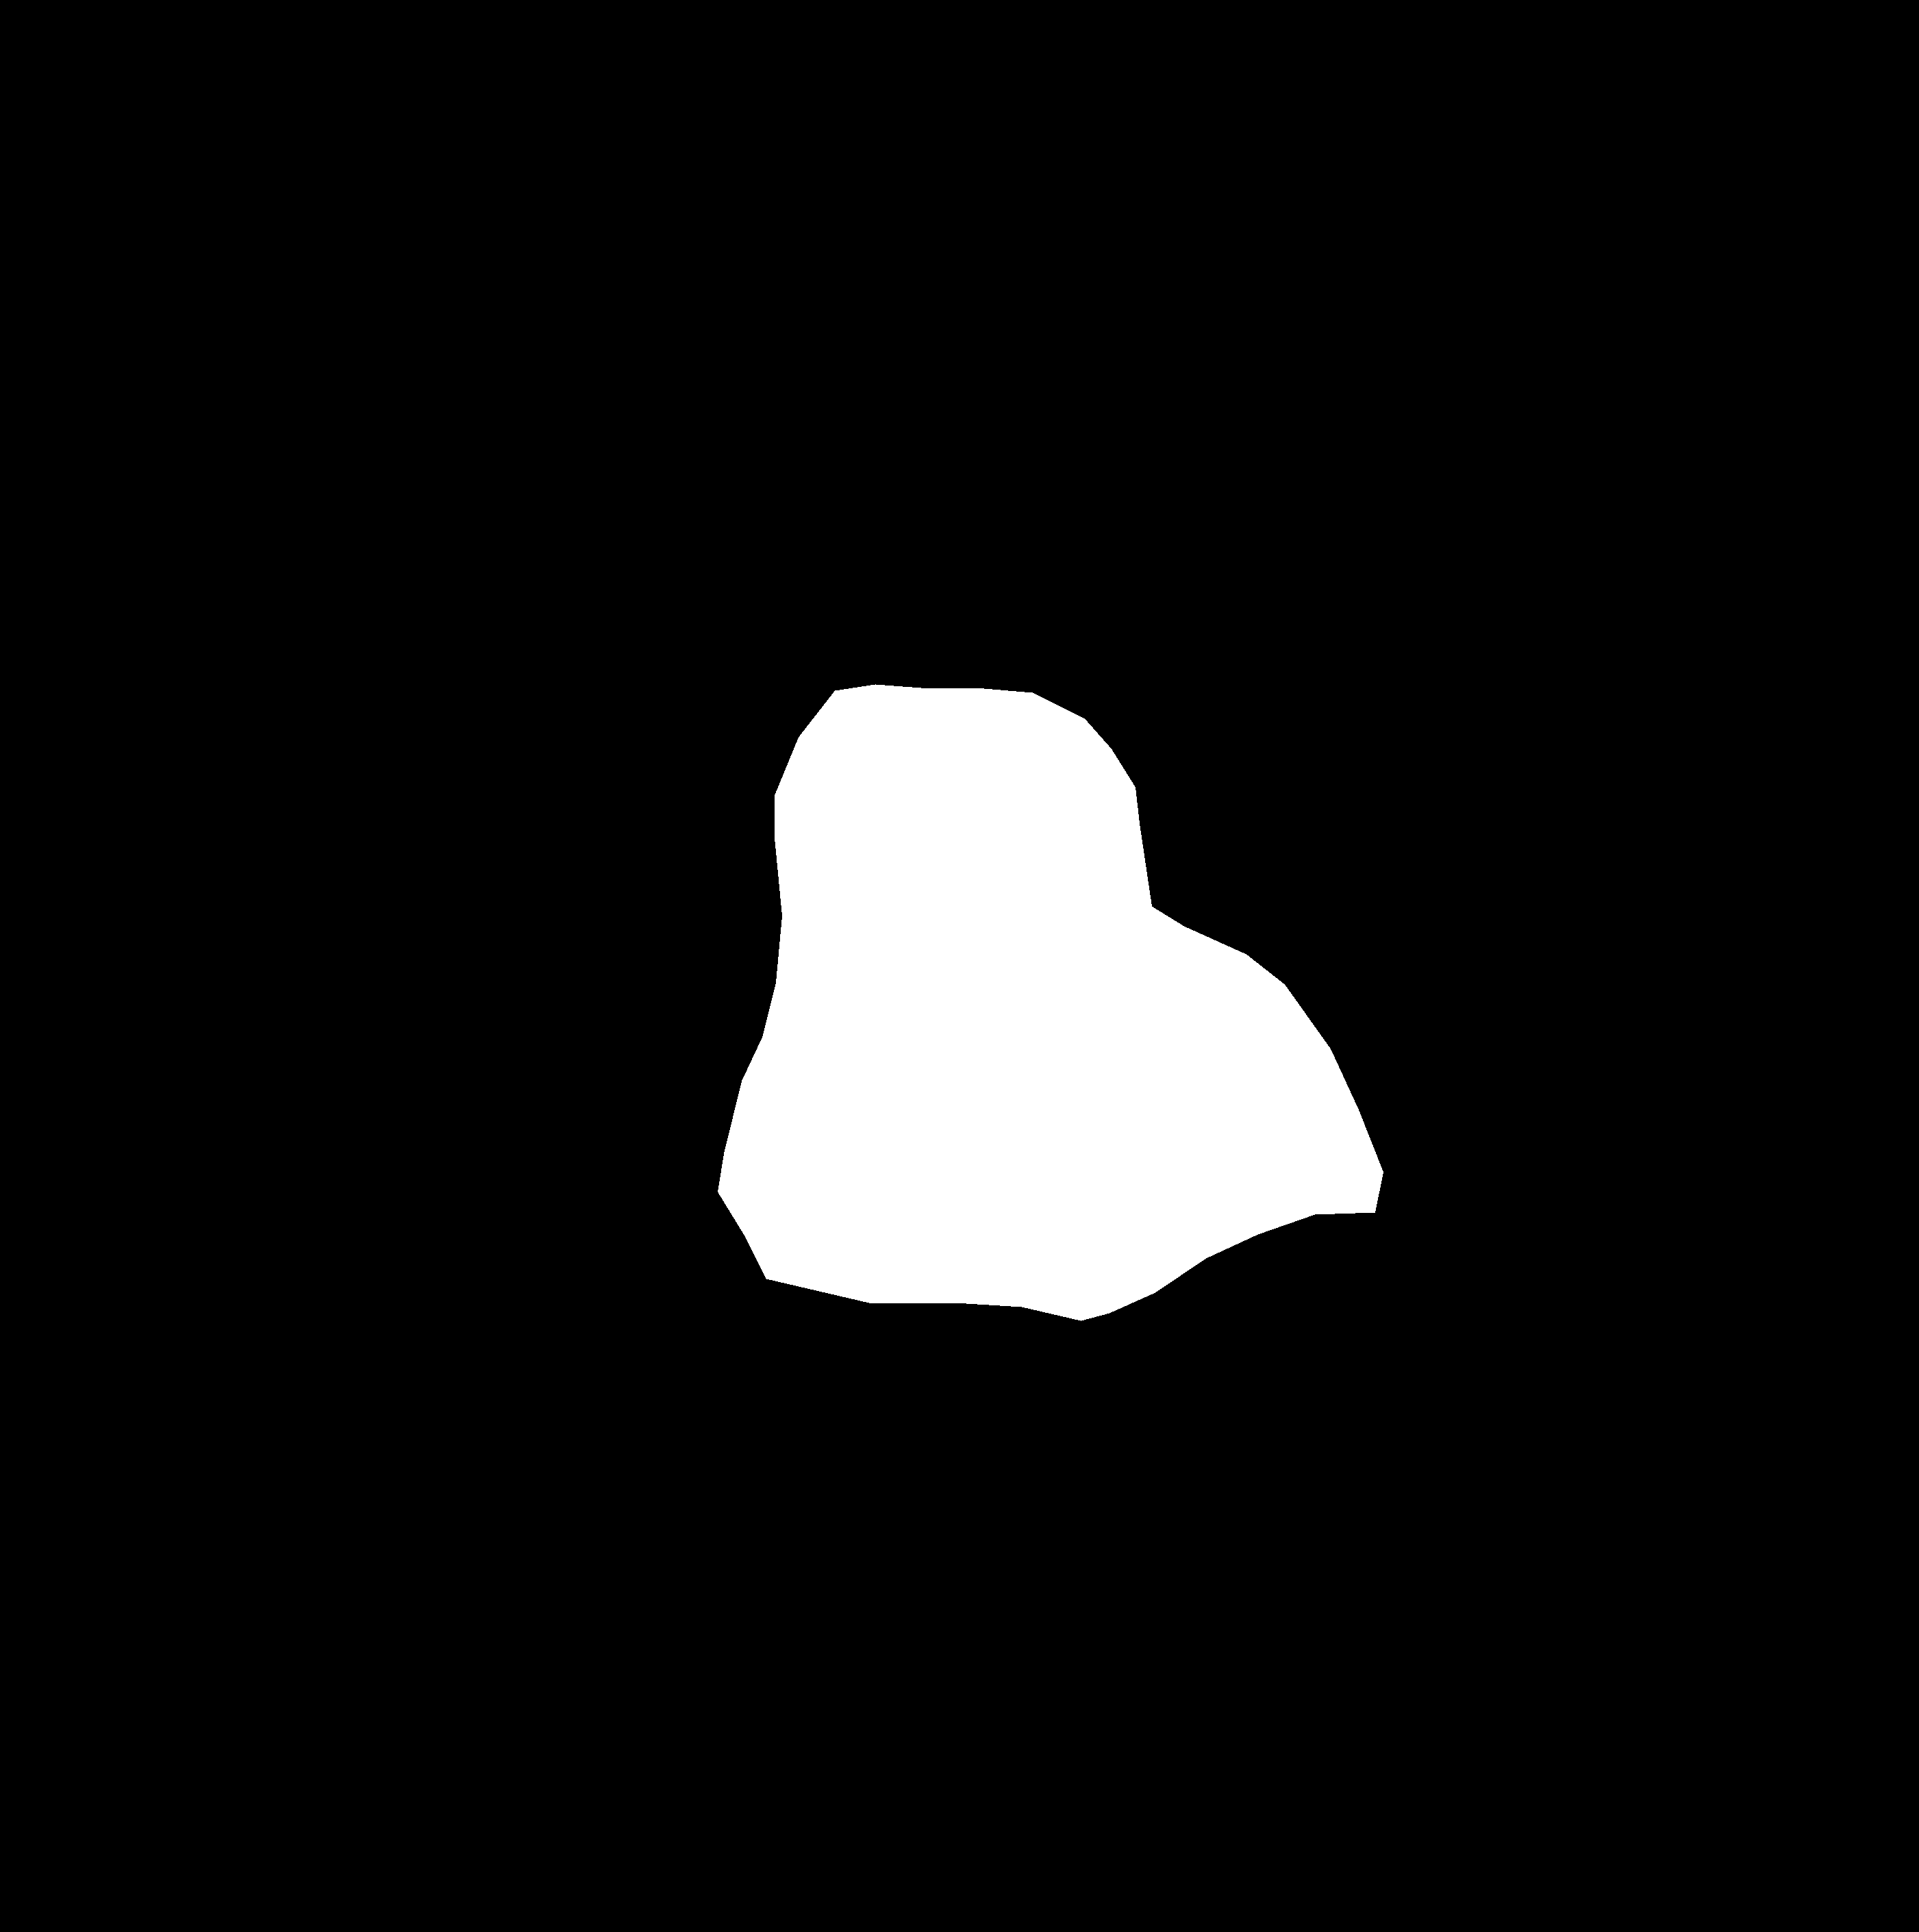heart: (717, 684, 1383, 1320)
left_lung: (248, 137, 880, 1384)
right_lung: (1072, 128, 1624, 1308)
